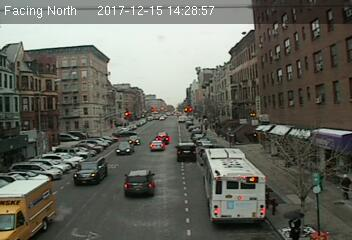bus: (203, 148, 264, 222)
car: (71, 158, 108, 184), (122, 169, 156, 197), (174, 142, 198, 162), (116, 142, 134, 156), (149, 139, 164, 150), (155, 132, 170, 143)
truck: (1, 179, 58, 240)
